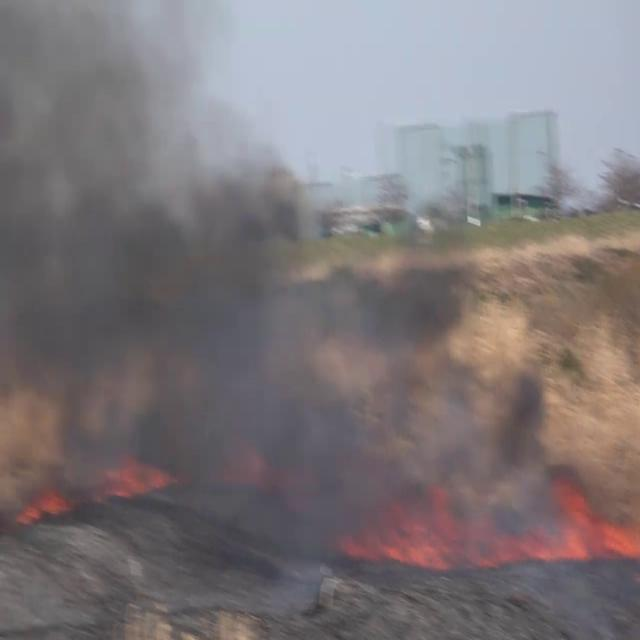Smoke: (0, 11, 638, 577)
